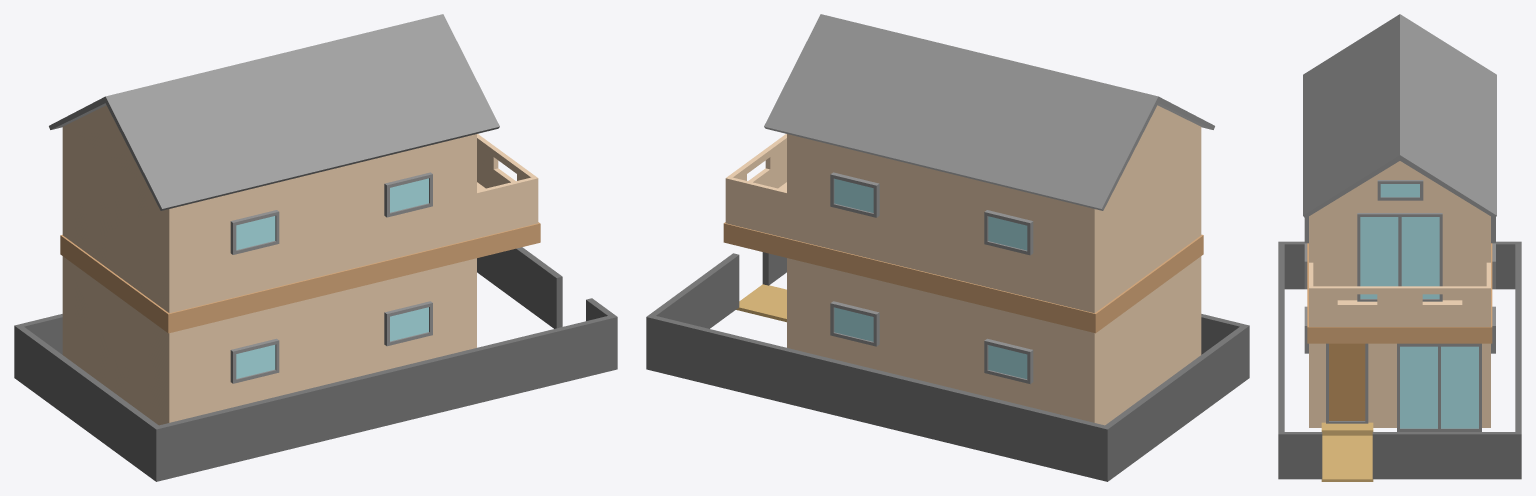
Rendered from house.glb.
3 renders of one model, left to right at view 1: azimuth 30°, elevation 25°; view 2: azimuth 150°, elevation 25°; view 3: azimuth 270°, elevation 25°, orthographic. The views are drawn at different scales.
Parts seen in each view (by area): view 1: House, Roof, Fence, FloorAccent, Balcony, WindowLBB, WindowLUB, WindowLUF, WindowLBF; view 2: House, Roof, Fence, FloorAccent, Balcony, WindowRUF, WindowRDF, WindowRDB, WindowRUB, PathWay; view 3: Roof, House, Fence, SlidingDoor1F, Balcony, SlidingDoor2F, FloorAccent, Door, PathWay, WindowFT.
Part boxes in pixels (x1,y1,x2,y2): House: [62, 105, 476, 425]; Roof: [49, 14, 499, 210]; Fence: [14, 247, 617, 481]; FloorAccent: [60, 222, 540, 333]; Balcony: [477, 134, 538, 237]; WindowLBB: [230, 338, 279, 383]; WindowLUB: [230, 210, 279, 254]; WindowLUF: [384, 172, 432, 217]; WindowLBF: [384, 301, 432, 346]; House: [787, 105, 1201, 425]; Roof: [764, 14, 1214, 210]; Fence: [646, 252, 1249, 481]; FloorAccent: [723, 222, 1203, 333]; Balcony: [725, 134, 786, 237]; WindowRUF: [830, 172, 879, 217]; WindowRDF: [830, 301, 879, 346]; WindowRDB: [984, 338, 1033, 384]; WindowRUB: [984, 210, 1033, 255]; PathWay: [736, 284, 786, 322]; Roof: [1303, 14, 1496, 218]; House: [1309, 161, 1490, 427]; Fence: [1278, 241, 1521, 479]; SlidingDoor1F: [1397, 343, 1481, 431]; Balcony: [1309, 262, 1490, 326]; SlidingDoor2F: [1357, 213, 1442, 301]; FloorAccent: [1307, 243, 1492, 343]; Door: [1326, 343, 1368, 423]; PathWay: [1321, 422, 1373, 481]; WindowFT: [1377, 180, 1423, 200].
Size of the model in its own units: 15 by 10.31 by 8.
